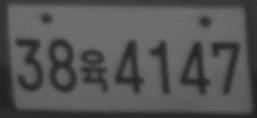1: (148, 40, 176, 94)
3: (15, 37, 44, 91)
4: (114, 39, 144, 94), (180, 41, 210, 95)
7: (211, 42, 242, 94)
8: (47, 38, 77, 93)
육: (81, 49, 107, 92)
